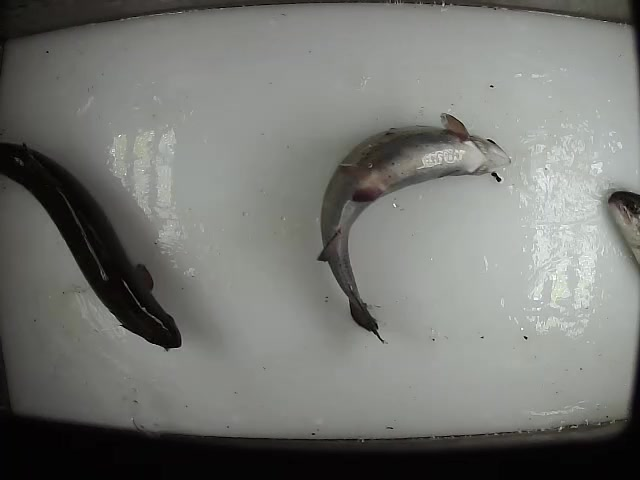fish: (317, 109, 512, 345), (1, 138, 183, 352), (608, 191, 640, 264)
